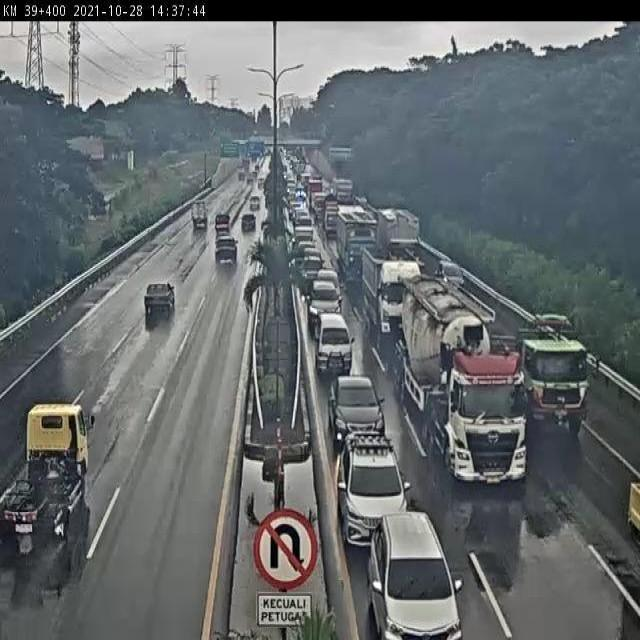big truck: (406, 277, 528, 475), (482, 293, 587, 427), (359, 238, 411, 342)
car: (362, 516, 466, 637), (333, 428, 410, 537), (323, 371, 391, 445), (311, 312, 358, 371), (139, 276, 179, 320), (308, 276, 348, 317), (296, 242, 330, 274), (213, 229, 242, 264), (293, 218, 320, 246), (239, 209, 258, 239), (212, 205, 230, 231)
small truck: (8, 397, 105, 559), (188, 193, 210, 231)
